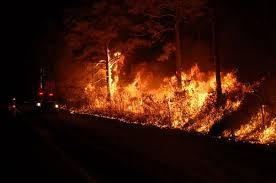fire: (82, 45, 265, 132)
